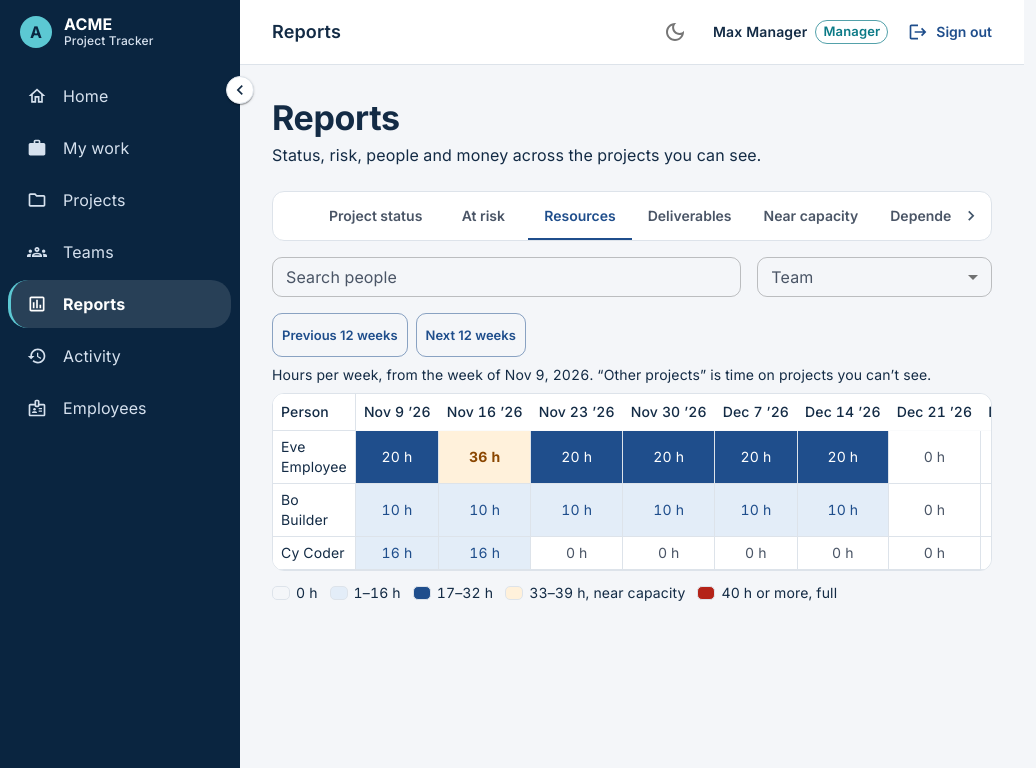
Test: Reports: content › resources shows a week grid; hours on hidden projects are not named
Expected: the table named "Resource allocation" is shown, top-left (273, 394), bottom-right (992, 570)
Hover over the cell "36 h" at (485, 457), box top-left (439, 430), bottom-right (531, 484)
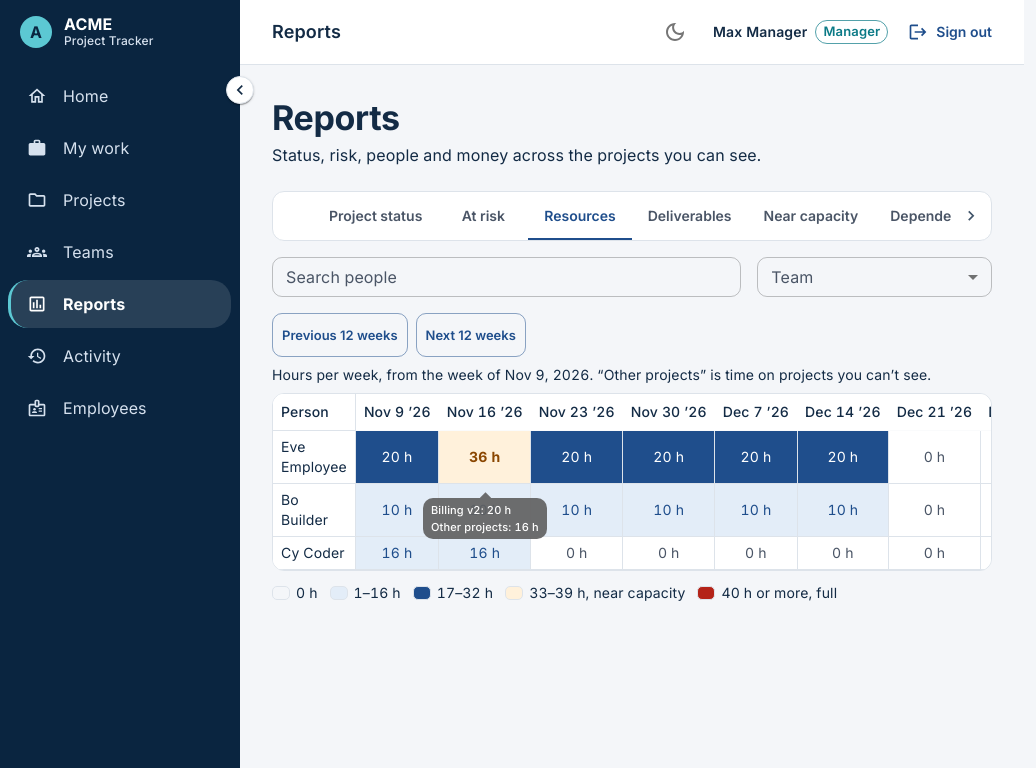
Expected: the tooltip shows "Billing v2: 20 h", top-left (431, 503), bottom-right (511, 517)
Expected: the tooltip shows "Other projects: 16 h", top-left (431, 520), bottom-right (539, 534)
